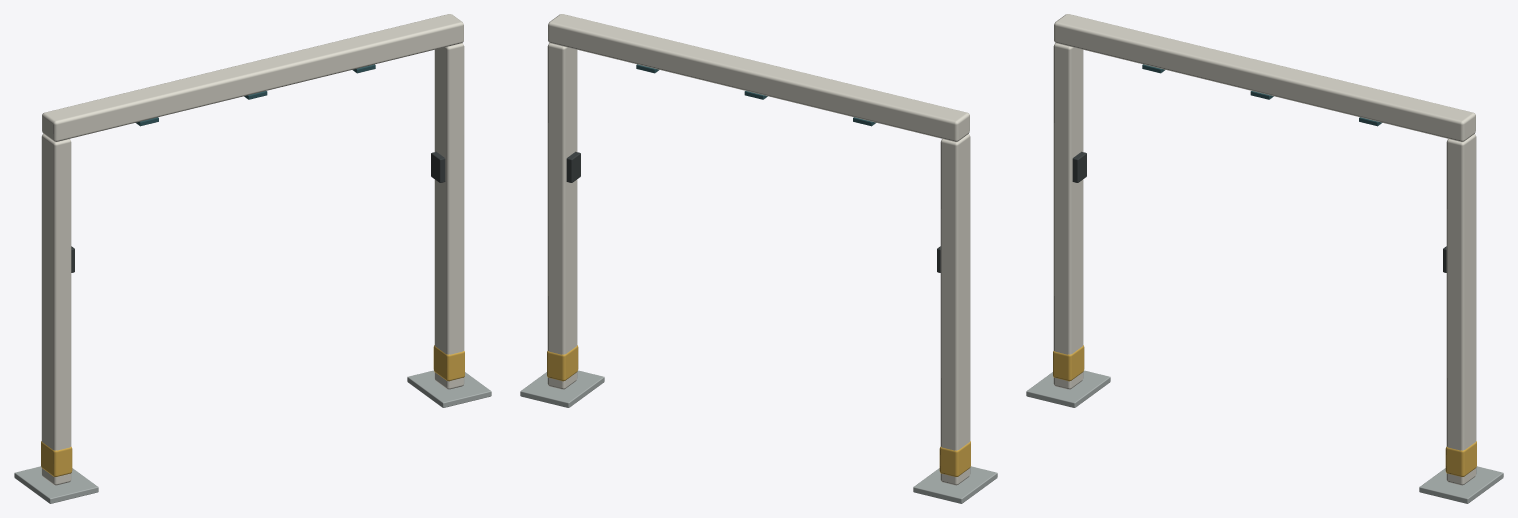
The model's file is automated-parking-and-vehicle-retrieval-automated-park-81dd8f20__30347.glb.
3 renders of one model, left to right at view 1: azimuth 30°, elevation 25°; view 2: azimuth 150°, elevation 25°; view 3: azimuth 330°, elevation 25°, orthographic.
Visible parts, largest first — view 1: automated-parking-and-vehicle-retrieval-vehicle-clearance-sc (×3); view 2: automated-parking-and-vehicle-retrieval-vehicle-clearance-sc (×3); view 3: automated-parking-and-vehicle-retrieval-vehicle-clearance-sc (×3).
Boxes of the visible parts, x1,y1,x2,y2 form: automated-parking-and-vehicle-retrieval-vehicle-clearance-sc (×3): [14, 14, 491, 503]; automated-parking-and-vehicle-retrieval-vehicle-clearance-sc (×3): [520, 14, 997, 503]; automated-parking-and-vehicle-retrieval-vehicle-clearance-sc (×3): [1026, 14, 1503, 503].
Bounding box in the file's own units: 3.26 × 2.61 × 0.46.
